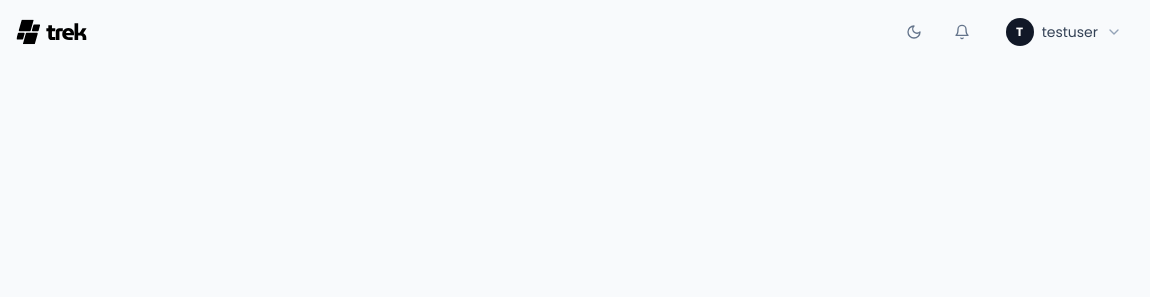
Navbar › FE-COMP-NAVBAR-004: user menu opens on click
The width and height of the screenshot is (1150, 297).
Note: Click the username to open dropdown
Step 1. Click the text "testuser" → (1070,32), box [1042, 22, 1098, 42]
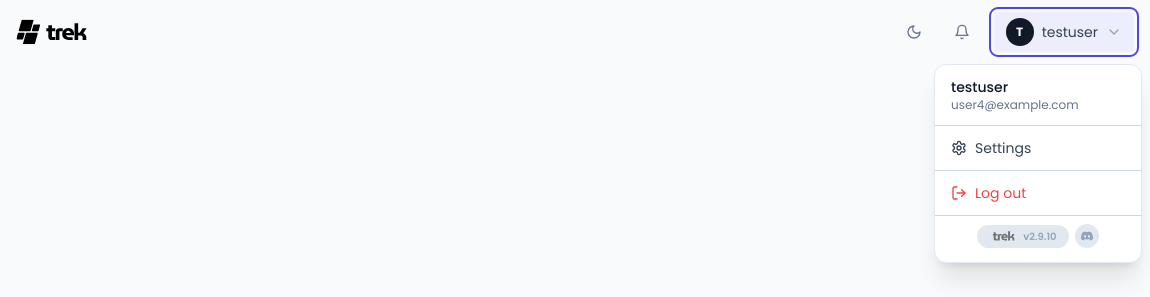
Expected: the link "Settings" is shown, [951, 138, 1031, 158]
